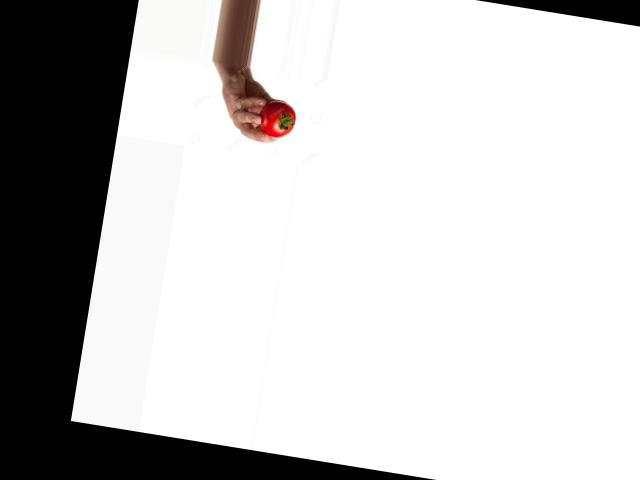tomato: (257, 98, 298, 139)
